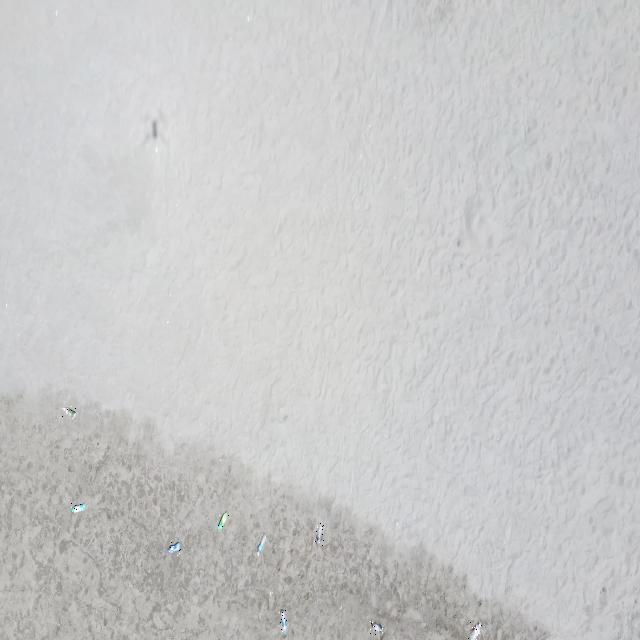plastic-bottle: (255, 532, 268, 557), (217, 508, 229, 532), (468, 622, 483, 640), (314, 522, 324, 548), (167, 540, 181, 556), (278, 610, 286, 637), (370, 621, 384, 635), (62, 406, 77, 419), (71, 503, 86, 515)
